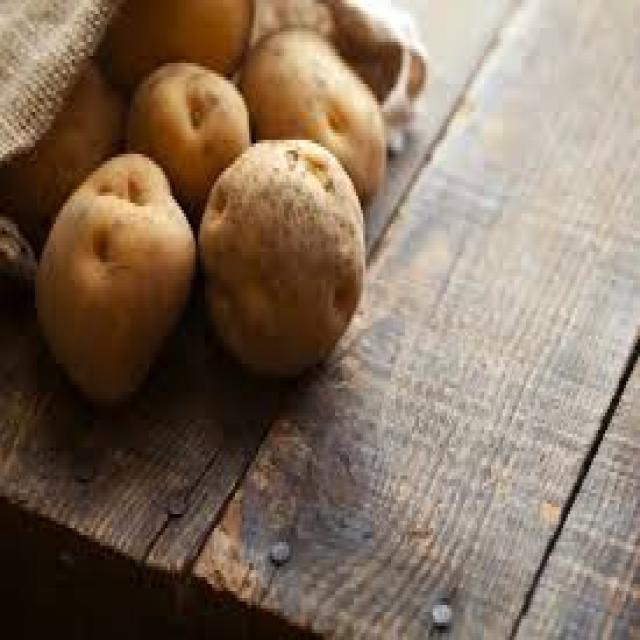organic waste: (31, 147, 196, 406), (196, 133, 363, 374), (240, 24, 384, 196), (2, 56, 121, 234), (126, 56, 249, 213), (91, 0, 249, 84)
